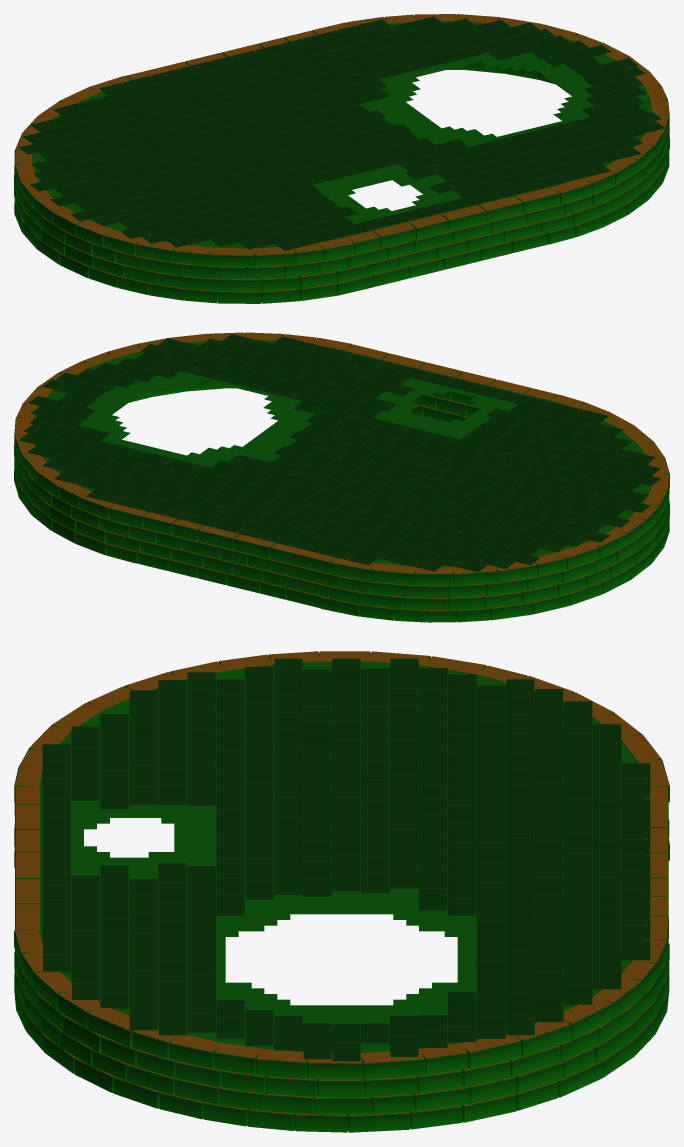
The model's file is shrine_floor.glb.
3 views of the same model, one above another, from view 1: azimuth 30°, elevation 25°; view 2: azimuth 150°, elevation 25°; view 3: azimuth 270°, elevation 25° (orthographic). The views are drawn at different scales.
Parts seen in each view (by area): view 1: shrine_floor; view 2: shrine_floor; view 3: shrine_floor.
Part boxes in pixels (x1,y1,x2,y2): shrine_floor: [14, 14, 669, 303]; shrine_floor: [14, 332, 669, 622]; shrine_floor: [14, 651, 669, 1132].
Size of what is drawn, in the model's own units: 30.38 by 2.37 by 20.37.
